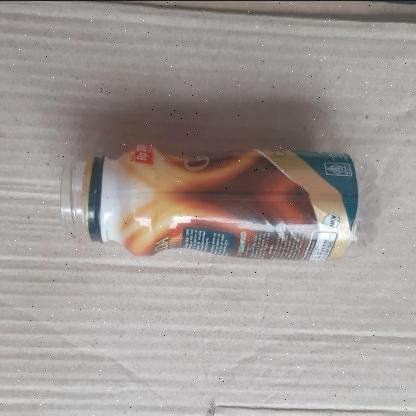Plastic Bottle: (60, 142, 382, 264)
